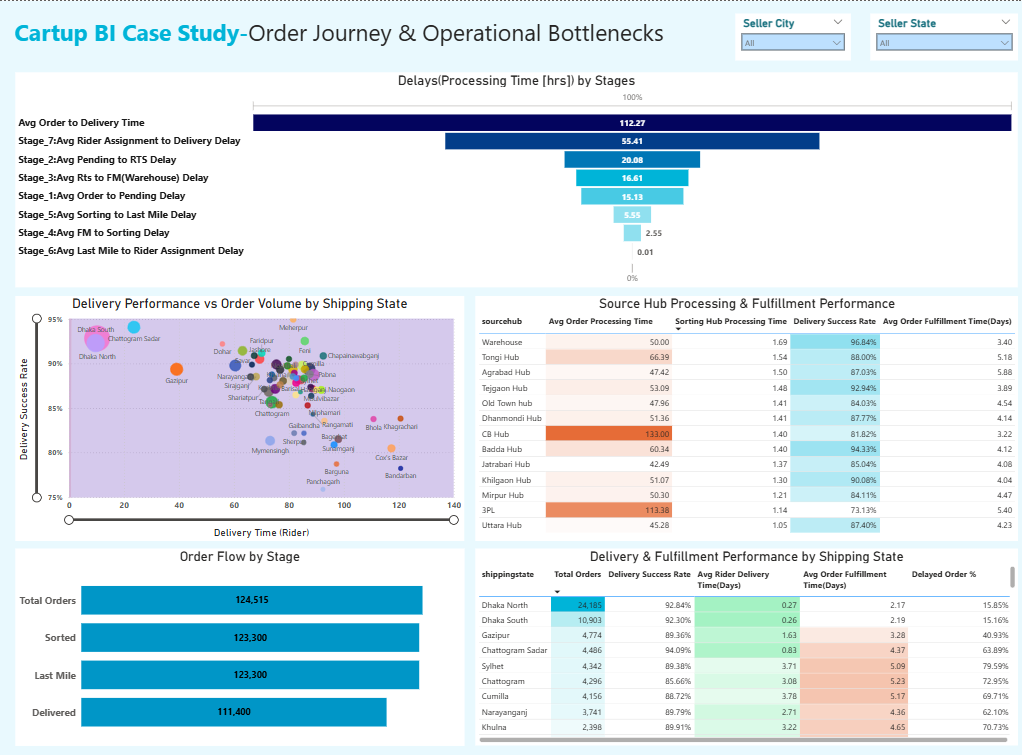

Layout of this report page (visuals, bound fields, positions):
{"tool":"powerbi","page":{"name":" Question 2","canvas":[1680,1240],"ordinal":2},"visuals":[{"type":"textbox","box":[21.4,21.4,1164.3,75],"z":0},{"type":"slicer","fields":{"Values":["DimShops.sellercity"]},"box":[1201.4,20.3,188.4,76.8],"z":1000},{"type":"slicer","fields":{"Values":["OrderJourneyData.sellerstate"]},"box":[1421.7,20.3,242,76.8],"z":2000},{"type":"funnel","title":"Delays(Processing Time [hrs]) by Stages","fields":{"Y":["_MQ2.Stage Delay"],"Category":["StageTable.Stage"]},"box":[25.9,115.9,1636.6,351.2],"z":3000},{"type":"tableEx","title":"Source Hub Processing & Fulfillment Performance","fields":{"Values":["OrderJourneyData.sourcehub","_Measures.Avg Order Processing Time","_MeasuresQ2.Sorting Hub Processing Time","_MeasuresQ2.Delivery Success Rate","_MeasuresQ2.Total Fulfillment Time"]},"box":[776.8,482.1,887.5,400],"z":4000},{"type":"scatterChart","title":"Delivery Performance vs Order Volume by Shipping State","fields":{"X":["_MeasuresQ2.Delivery Time"],"Y":["_MeasuresQ2.Delivery Success Rate"],"Size":["_Measures.Total Orders"],"Category":["OrderJourneyData.shippingstate"],"Series":["OrderJourneyData.shippingstate"]},"box":[25.9,482.5,732.9,400],"z":5000},{"type":"clusteredBarChart","title":"Order Flow by Stage","fields":{"Category":["OrderStages.Stage"],"Y":["_MQ2.Stage orders"]},"box":[25.9,894.1,733.3,322.2],"z":6000},{"type":"tableEx","title":"Delivery & Fulfillment Performance by Shipping State","fields":{"Values":["OrderJourneyData.shippingstate","_M5.Total Orders","_MeasuresQ2.Delivery Success Rate","_M3.Avg Rider Delivery Time","_MeasuresQ2.Avg Order Fulfillment Time","_MeasuresQ2.Delayed Order %"]},"box":[776.8,894.2,886.6,322],"z":7000}]}

Visuals, with their boxes in screenshot pixels (x1, y1, x2, y2), scaled from the page's 1680x1240 canvas onto the 1022x755 screenshot:
textbox: x1=13, y1=13, x2=721, y2=59
slicer - DimShops.sellercity: x1=731, y1=12, x2=845, y2=59
slicer - OrderJourneyData.sellerstate: x1=865, y1=12, x2=1012, y2=59
"Delays(Processing Time [hrs]) by Stages" funnel: x1=16, y1=71, x2=1011, y2=284
"Source Hub Processing & Fulfillment Performance" tableEx: x1=473, y1=294, x2=1012, y2=537
"Delivery Performance vs Order Volume by Shipping State" scatterChart: x1=16, y1=294, x2=462, y2=537
"Order Flow by Stage" clusteredBarChart: x1=16, y1=544, x2=462, y2=741
"Delivery & Fulfillment Performance by Shipping State" tableEx: x1=473, y1=544, x2=1012, y2=741
